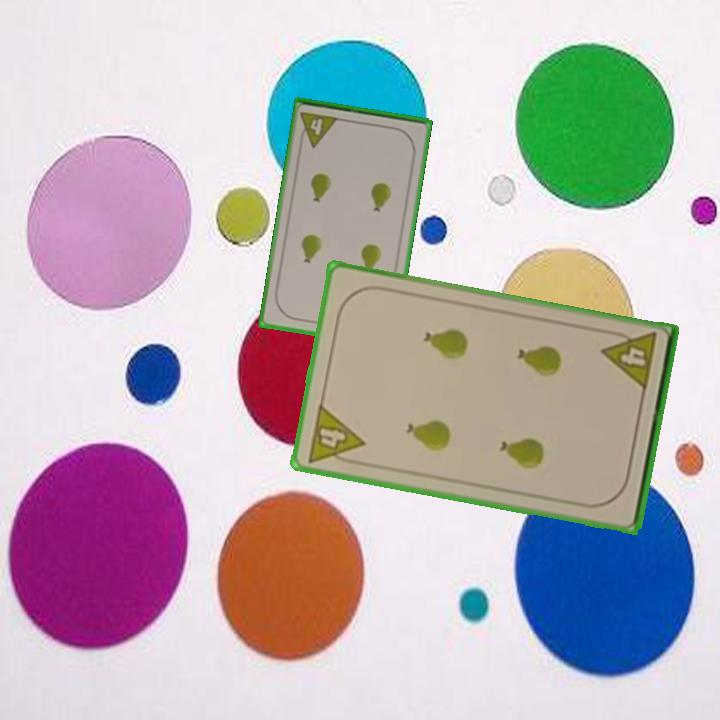4p: (303, 400, 367, 469), (598, 327, 660, 394), (296, 108, 341, 150)
